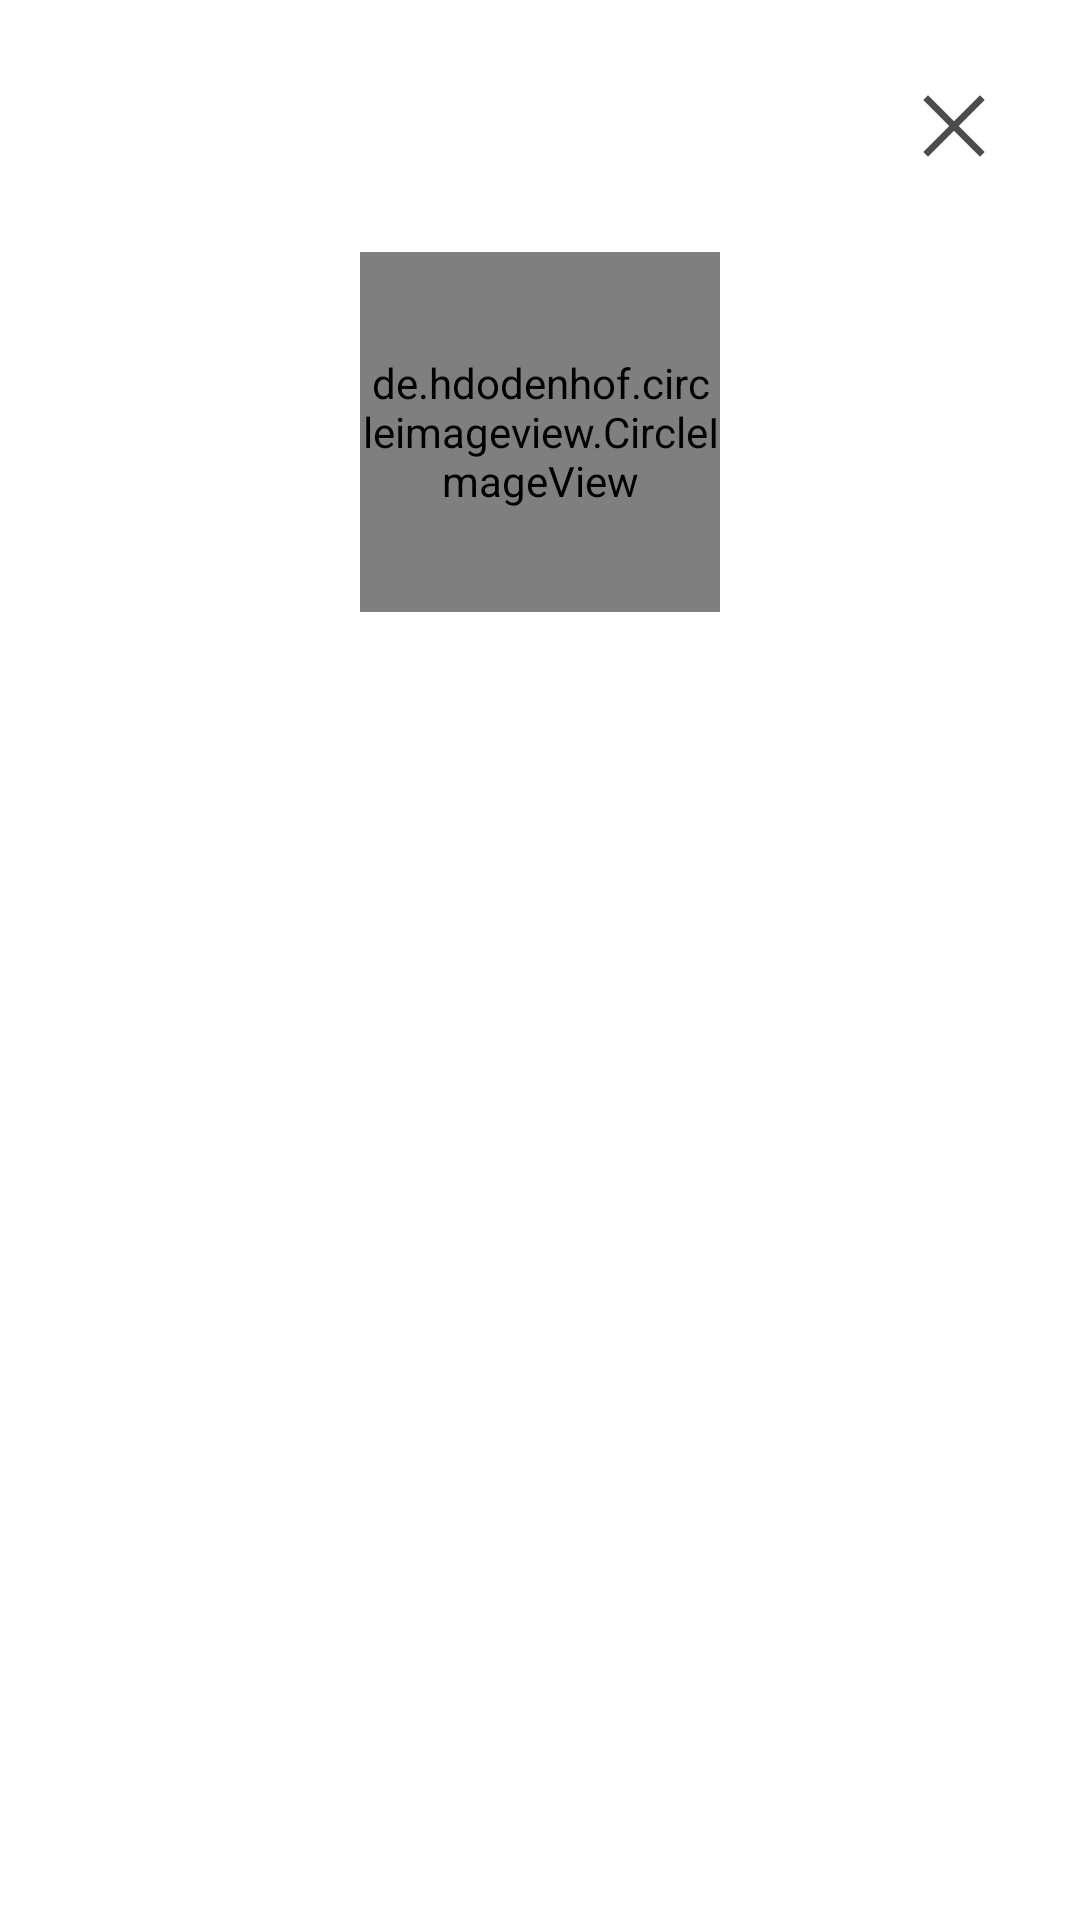

Icon click points for this 1080px x 1920px phone screenshot, format (x,y):
close: (954,126)
